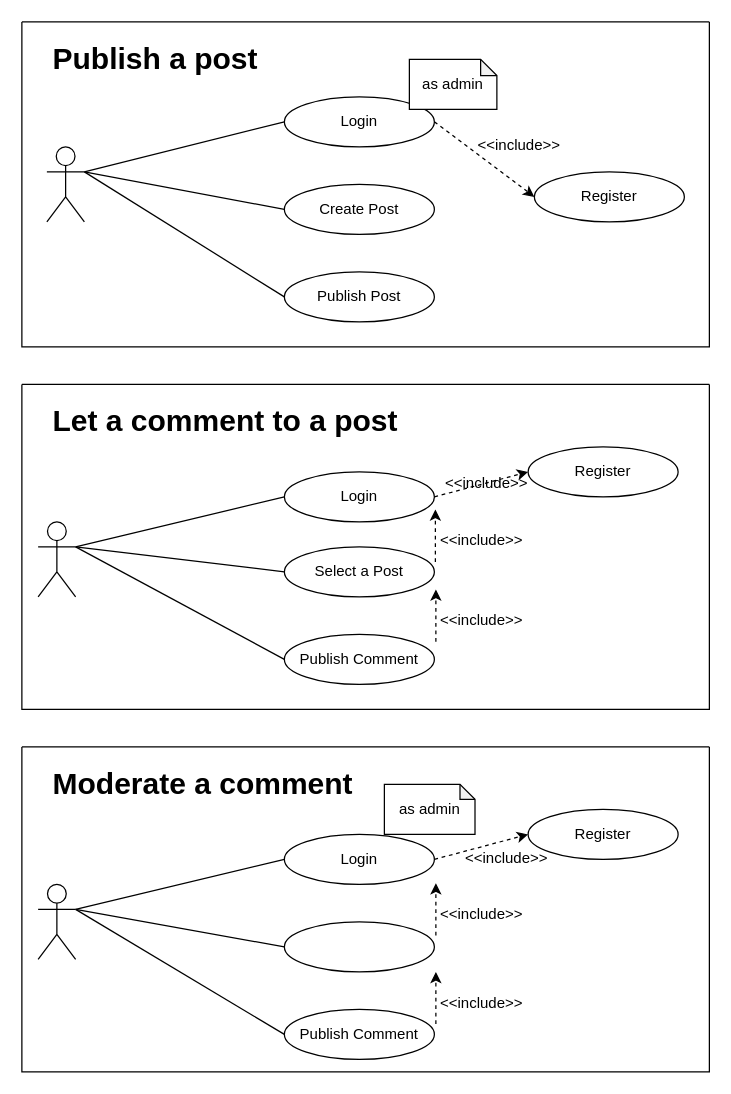
Image size: 731x1094. Some labels were removed from this diagram. The shapes that lost their labels are listed below. From the top down, each one's centre as x and y in pixels, then its label:
the point at 65,184: Publisher
the point at 56,559: User
the point at 56,921: Editor
the point at 358,946: Read pending comments
